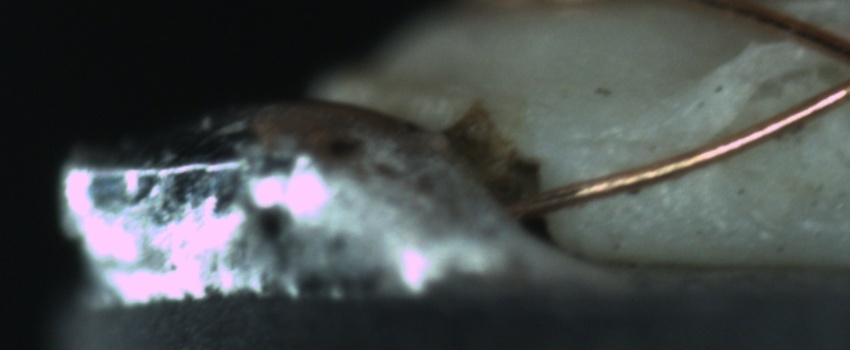CL: (808, 17, 849, 106)
DL: (568, 116, 690, 168)
